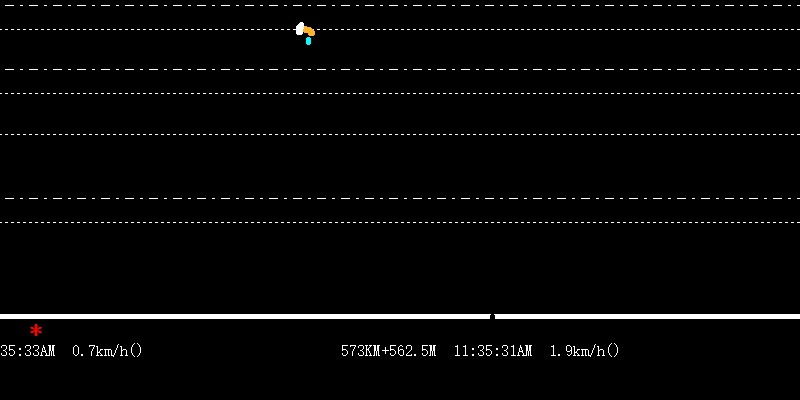face_2: (294, 20, 316, 39)
star: (26, 323, 43, 339)
